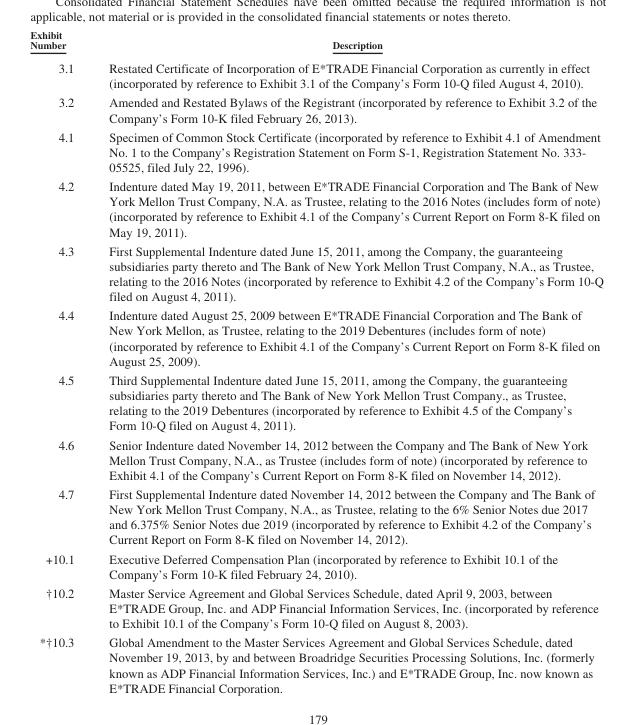table: (29, 28, 602, 694)
table column: (91, 28, 602, 694), (29, 28, 91, 694)
table column header: (29, 28, 602, 55)
table row: (29, 240, 602, 305), (29, 305, 602, 370), (29, 176, 602, 240), (29, 370, 602, 434), (29, 484, 602, 548), (29, 632, 602, 694), (29, 126, 602, 176), (29, 434, 602, 484), (29, 582, 602, 632), (29, 55, 602, 92), (29, 92, 602, 126), (29, 548, 602, 582), (29, 28, 602, 55)
